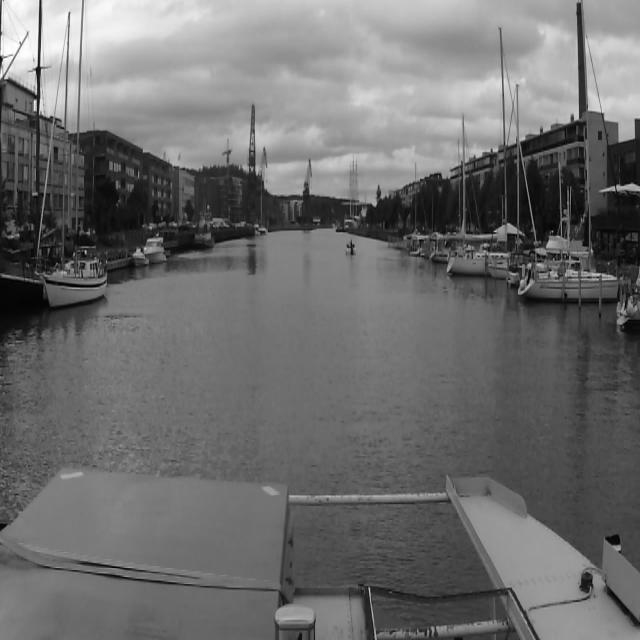ship: (519, 0, 626, 301), (42, 0, 106, 314), (446, 25, 510, 276), (0, 0, 44, 326), (193, 204, 214, 250), (142, 237, 168, 263), (260, 177, 268, 236), (132, 247, 148, 269), (345, 239, 357, 255), (254, 220, 260, 236)
